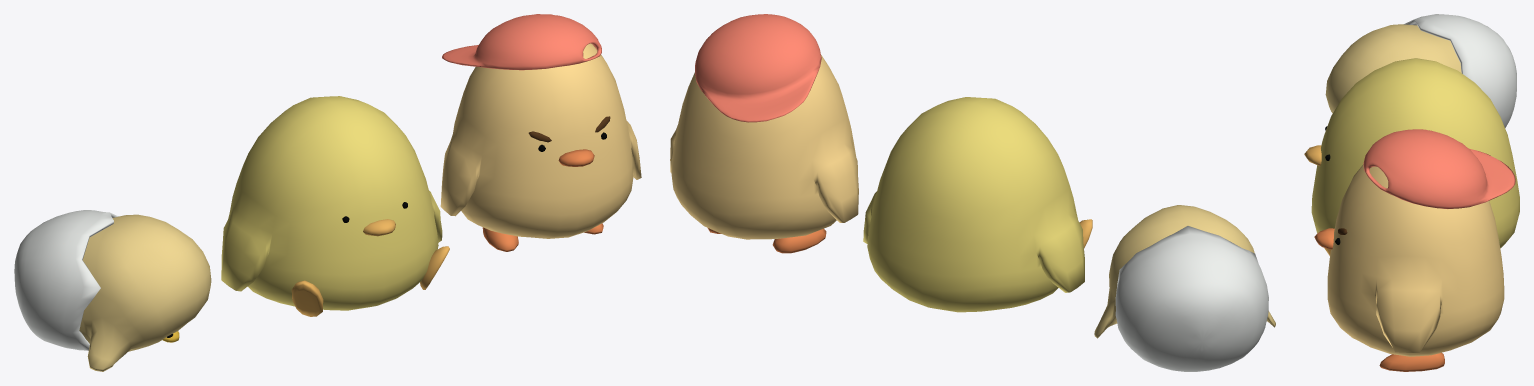
Rendered from chick_trio-transformed.glb.
3 renders of one model, left to right at view 1: azimuth 30°, elevation 25°; view 2: azimuth 150°, elevation 25°; view 3: azimuth 270°, elevation 25°, orthographic.
Visible parts, largest first — view 1: Body_Body_0; view 2: Body_Body_0; view 3: Body_Body_0.
Part boxes in pixels (x1=…): Body_Body_0: x1=14, y1=14, x2=641, y2=371; Body_Body_0: x1=670, y1=14, x2=1275, y2=371; Body_Body_0: x1=1304, y1=14, x2=1519, y2=371.
Size of the model in its own units: 5.51 by 1.93 by 1.72.
1 material, 1 textured.
